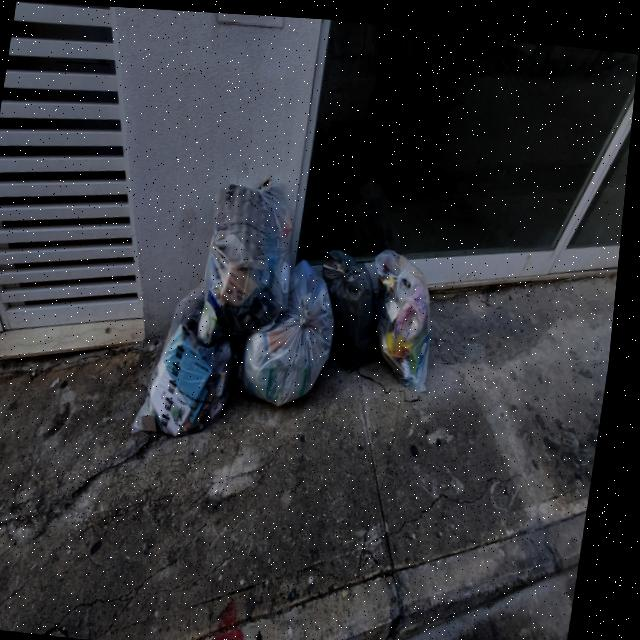Mixed Waste -Black Bag-: (316, 241, 398, 371)
Recycled Waste -Grey or Green Bag-: (137, 275, 254, 447), (241, 250, 357, 411), (200, 169, 312, 327), (374, 240, 454, 388)
